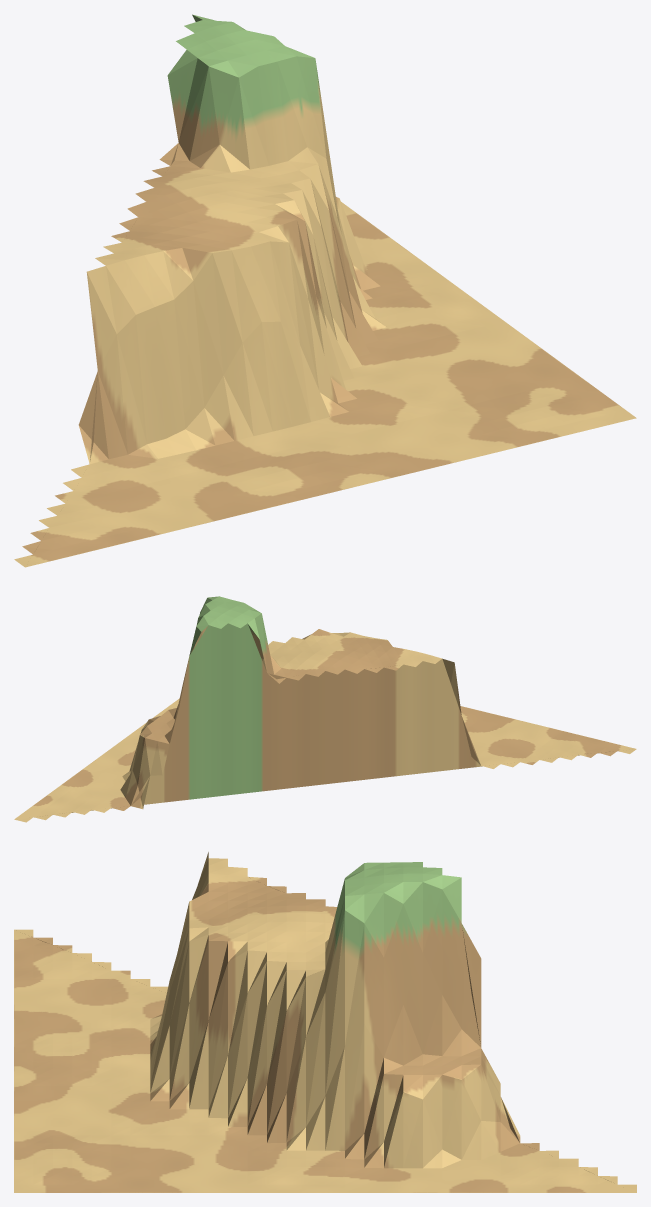
The model's file is Desert_Mountains_09_NE.obj.
The picture shows the model from 3 angles, top to bottom: view 1: azimuth 30°, elevation 25°; view 2: azimuth 150°, elevation 25°; view 3: azimuth 270°, elevation 25°; orthographic projection. The views are drawn at different scales.
Bounding box in the file's own units: 10 × 4.19 × 10.
1 material, 1 textured.
